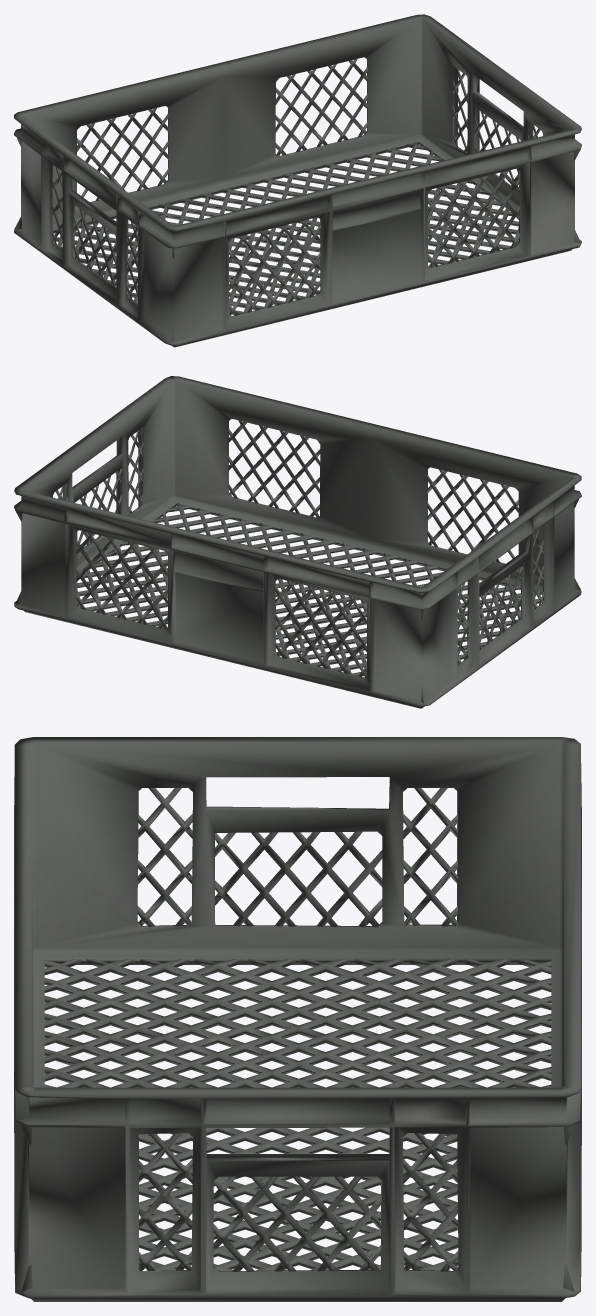
File: crate_gray.glb
3 renders of one model, top to bottom at view 1: azimuth 30°, elevation 25°; view 2: azimuth 150°, elevation 25°; view 3: azimuth 270°, elevation 25°, orthographic. The views are drawn at different scales.
Parts seen in each view (by area): view 1: sm_crate_a08_mesh_00 (×2); view 2: sm_crate_a08_mesh_00 (×2); view 3: sm_crate_a08_mesh_00 (×2).
Boxes of the visible parts, left/top/right/bottom form: sm_crate_a08_mesh_00 (×2): left=14, top=14, right=581, bottom=347; sm_crate_a08_mesh_00 (×2): left=14, top=376, right=581, bottom=708; sm_crate_a08_mesh_00 (×2): left=14, top=737, right=581, bottom=1301.
Size of the model in its own units: 0.6056 by 0.1699 by 0.4056.
Materials: 1 (1 with a texture image).
